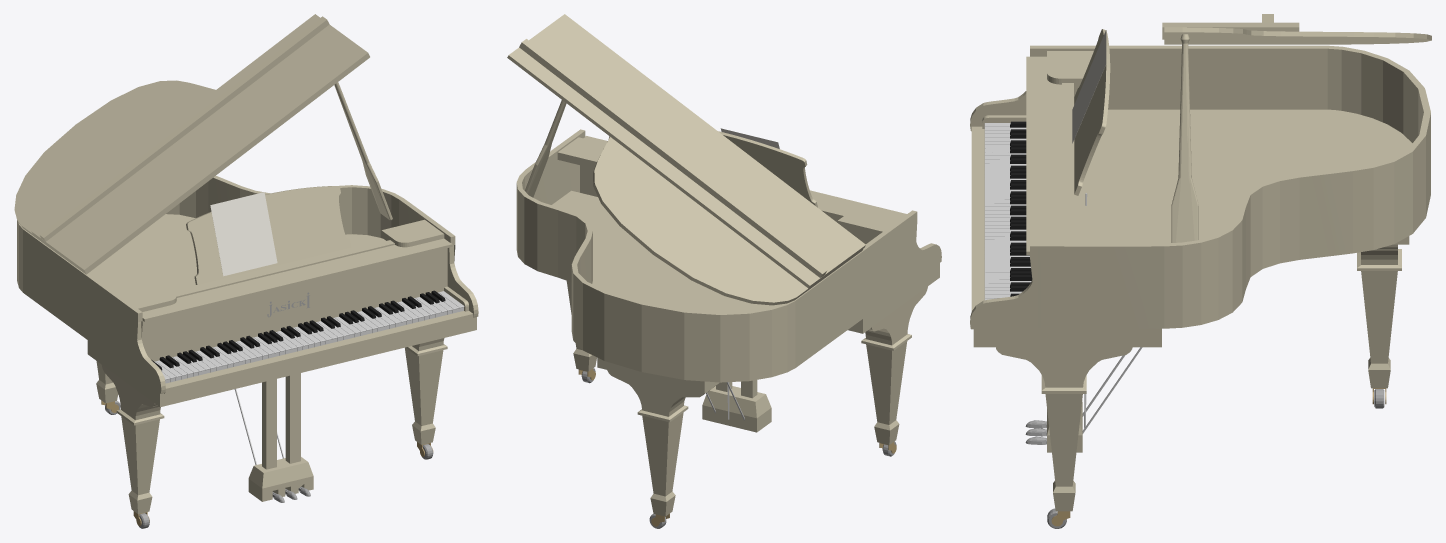
File: Piano2.fbx
3 renders of one model, left to right at view 1: azimuth 30°, elevation 25°; view 2: azimuth 150°, elevation 25°; view 3: azimuth 270°, elevation 25°, orthographic. The views are drawn at different scales.
Visible parts, largest first — view 1: PIANO, PIANO.001; view 2: PIANO; view 3: PIANO, PIANO.001.
Part boxes in pixels (x1,y1,x2,y2): PIANO: [14, 14, 478, 528]; PIANO.001: [210, 192, 277, 276]; PIANO: [507, 14, 941, 528]; PIANO: [970, 14, 1431, 528]; PIANO.001: [1072, 30, 1106, 143].
Size of the model in its own units: 437 by 500 by 418.
